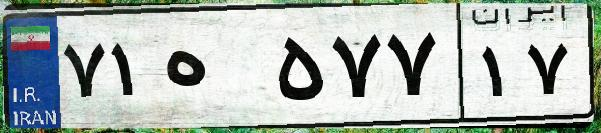1: (475, 38, 525, 113), (110, 28, 158, 98)
5: (270, 28, 330, 110)
7: (385, 28, 445, 110), (330, 28, 385, 110), (57, 26, 110, 100), (525, 38, 570, 115)
ه: (158, 20, 270, 120)
